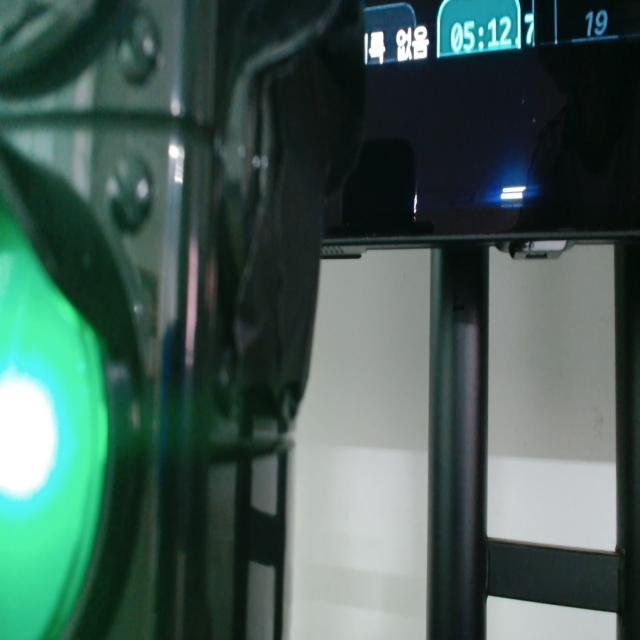green_light: (0, 203, 108, 639)
